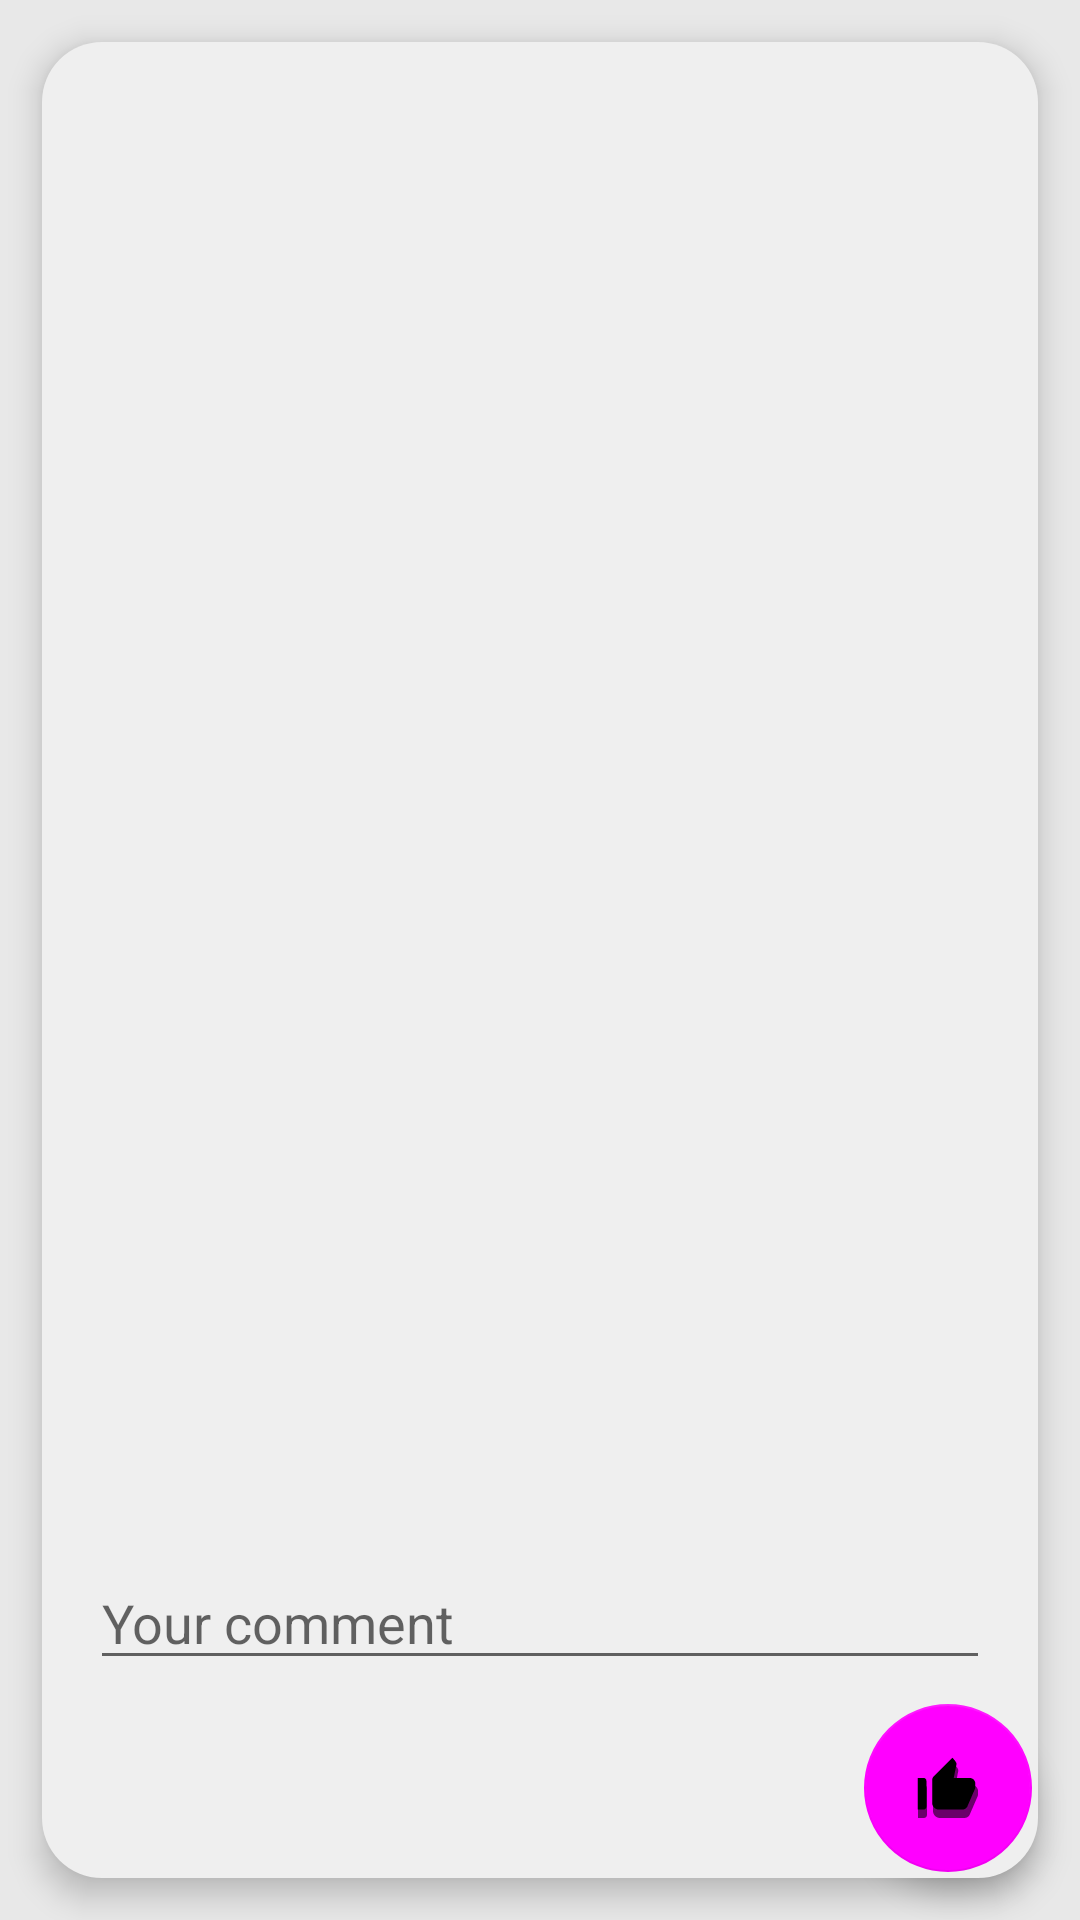

Icon click points for this 1080 × 1920 phone screenshot, format (x,y):
thumb up: (948,1788)
